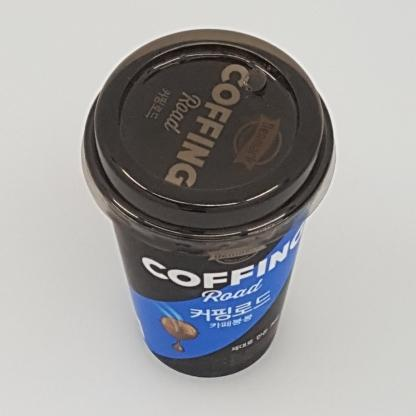---------: (80, 28, 336, 378)
